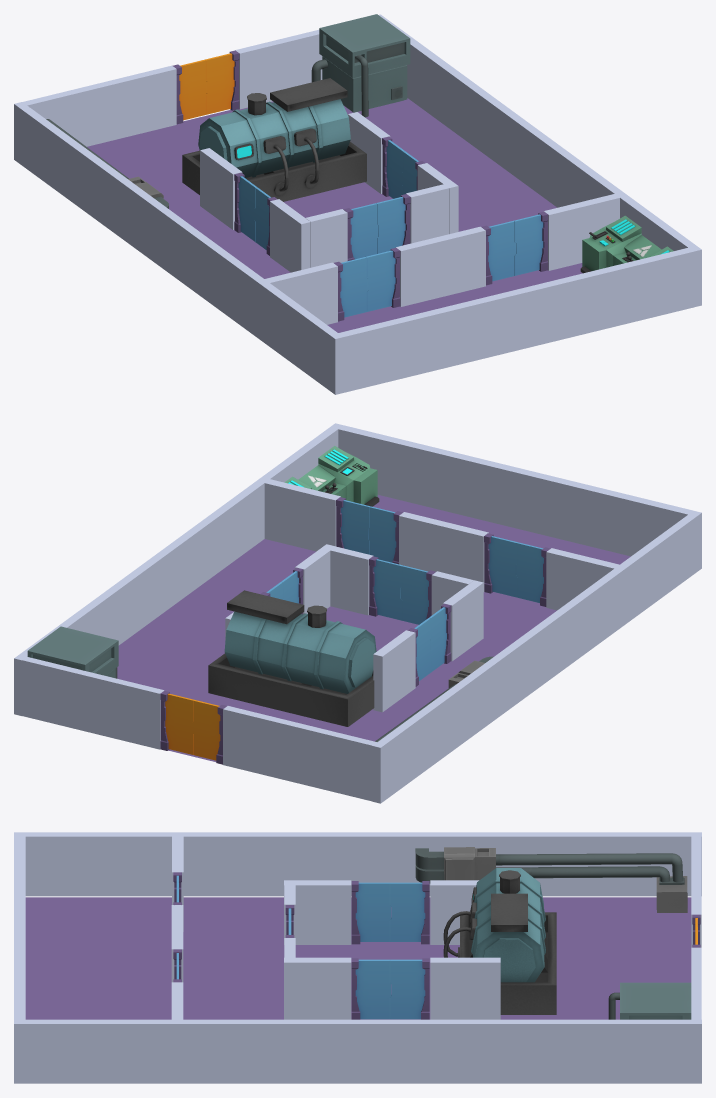
Rendered from maps_06.fbx.
3 renders of one model, top to bottom at view 1: azimuth 30°, elevation 25°; view 2: azimuth 150°, elevation 25°; view 3: azimuth 270°, elevation 25°, orthographic. The views are drawn at different scales.
Visible parts, largest first — view 1: wall_01_05_geo, wall_01_03_geo, wall_01_01_geo, tankwater_geo1, wall_01_02_geo, wall_01_04_geo, generatorStation_05_geo1, door_01_geo (×5), wall_01_06_geo, door_02_geo (×4), wall_01_12_geo, wall_01_08_geo (+13 smaller); view 2: wall_01_05_geo, wall_01_01_geo, wall_01_03_geo, tankwater_geo1, wall_01_02_geo, wall_01_04_geo, wall_01_12_geo, door_01_geo (×4), door_02_geo (×4), wall_01_06_geo, wall_01_08_geo, table_01_geo1 (+12 smaller); view 3: wall_01_05_geo, wall_01_02_geo, wall_01_01_geo, tankwater_geo1, generatorStation_03_geo1, wall_01_10_geo1, wall_01_10_geo2, door_01_geo (×2), door_02_geo (×2), wall_01_10_geo4, generatorStation_05_geo1, wall_01_03_geo (+8 smaller).
Boxes of the visible parts, x1,y1,x2,y2 form: wall_01_05_geo: [87, 98, 582, 332]; wall_01_03_geo: [338, 248, 693, 392]; wall_01_01_geo: [14, 102, 342, 394]; tankwater_geo1: [182, 78, 366, 201]; wall_01_02_geo: [379, 14, 701, 307]; wall_01_04_geo: [22, 65, 176, 146]; generatorStation_05_geo1: [311, 14, 410, 117]; door_01_geo (×5): [238, 140, 543, 311]; wall_01_06_geo: [396, 226, 485, 306]; door_02_geo (×4): [254, 187, 515, 317]; wall_01_12_geo: [235, 29, 322, 109]; wall_01_08_geo: [543, 194, 619, 270]; wall_01_05_geo: [117, 495, 630, 761]; wall_01_01_geo: [372, 511, 701, 803]; wall_01_03_geo: [338, 425, 693, 556]; tankwater_geo1: [208, 590, 376, 726]; wall_01_02_geo: [14, 423, 342, 715]; wall_01_04_geo: [223, 706, 376, 801]; wall_01_12_geo: [22, 657, 164, 749]; door_01_geo (×4): [341, 500, 517, 680]; door_02_geo (×4): [368, 506, 543, 672]; wall_01_06_geo: [399, 512, 488, 591]; wall_01_08_geo: [264, 479, 340, 551]; table_01_geo1: [284, 446, 379, 506]; wall_01_05_geo: [25, 897, 691, 1019]; wall_01_02_geo: [14, 1019, 701, 1083]; wall_01_01_geo: [14, 832, 701, 896]; tankwater_geo1: [443, 868, 556, 1014]; generatorStation_03_geo1: [415, 847, 687, 912]; wall_01_10_geo1: [430, 957, 500, 1019]; wall_01_10_geo2: [284, 957, 351, 1019]; door_01_geo (×2): [390, 882, 425, 1019]; door_02_geo (×2): [355, 882, 391, 1019]; wall_01_10_geo4: [284, 880, 351, 944]; generatorStation_05_geo1: [608, 982, 691, 1019]; wall_01_03_geo: [14, 836, 25, 1019].
Bounding box in the file's own units: 60.99 × 14.87 × 92.58.
Materials: 6 (6 with a texture image).
